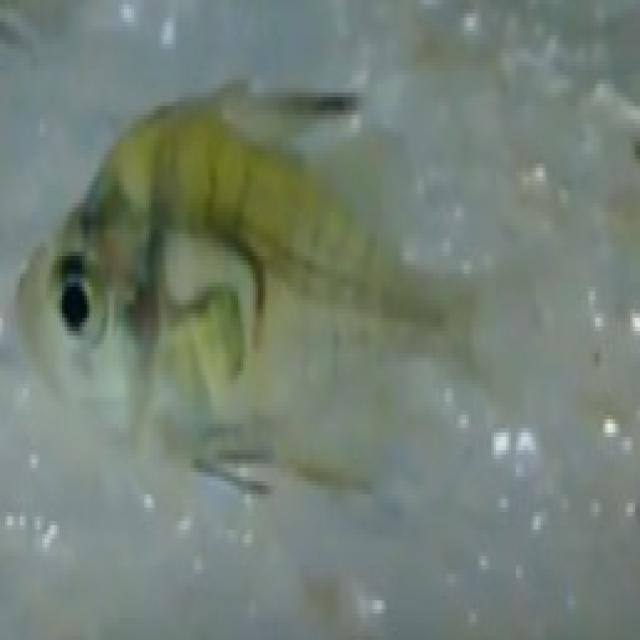Glass-Perchlet: (0, 3, 545, 586)
